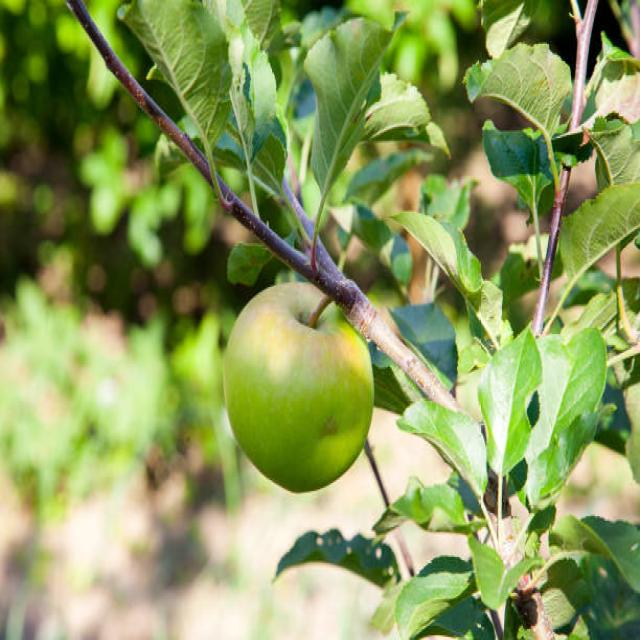Unripe: (222, 279, 373, 494)
